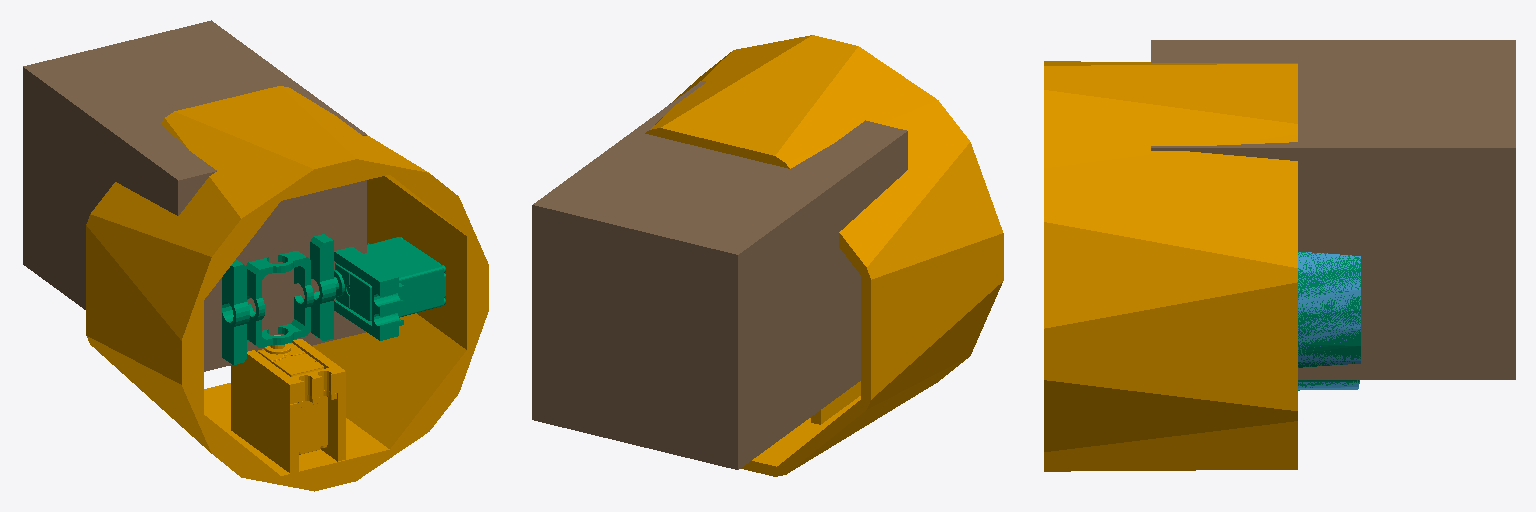
URDF robot description (atom_neck_v1):
<?xml version="1.0"?>
<!-- GENERATED by sim36/gen_neck.py - do not edit. -->
<robot name="atom_neck_v1">
  <mujoco>
    <compiler strippath="false" balanceinertia="true" discardvisual="false"/>
  </mujoco>
  <material name="shell"><color rgba="0.79 0.82 0.93 1"/></material>
  <material name="servo"><color rgba="0.84 0.0 0.0 1"/></material>
  <material name="head"><color rgba="0.55 0.45 0.35 1"/></material>

  <link name="neck_base">
    <inertial>
      <origin xyz="-0.002228170387 -0.016406399173 -0.089035291382" rpy="0 0 0"/>
      <mass value="0.482816538953"/>
      <inertia ixx="1.569031190147e-03" ixy="-1.284724955452e-05" ixz="-3.447563687629e-05"
               iyy="2.294219631954e-03" iyz="-6.505288405938e-05" izz="1.391820037109e-03"/>
    </inertial>
    <visual>
      <origin xyz="0.000000000000 0.000000000000 0.000000000000" rpy="0 0 0"/>
      <geometry><mesh filename="../NeckAssembly_files/meshes/neckcover_link.STL"/></geometry>
    </visual>
    <collision>
      <origin xyz="0.000000000000 0.000000000000 0.000000000000" rpy="0 0 0"/>
      <geometry><mesh filename="../NeckAssembly_files/meshes/neckcover_link.STL"/></geometry>
    </collision>
    <visual>
      <origin xyz="-0.009379017632 -0.029307607936 -0.143545072664" rpy="0 0 0"/>
      <geometry><mesh filename="../NeckAssembly_files/meshes/servo2_Link.STL"/></geometry>
    </visual>
    <collision>
      <origin xyz="-0.009379017632 -0.029307607936 -0.143545072664" rpy="0 0 0"/>
      <geometry><mesh filename="../NeckAssembly_files/meshes/servo2_Link.STL"/></geometry>
    </collision>
    <visual>
      <origin xyz="-0.023994949366 -0.029307607936 -0.107995072664" rpy="0 0 0"/>
      <geometry><mesh filename="../NeckAssembly_files/meshes/MotorHolder2_Link.STL"/></geometry>
    </visual>
    <collision>
      <origin xyz="-0.023994949366 -0.029307607936 -0.107995072664" rpy="0 0 0"/>
      <geometry><mesh filename="../NeckAssembly_files/meshes/MotorHolder2_Link.STL"/></geometry>
    </collision>
  </link>

  <joint name="neck_yaw" type="revolute">
    <origin xyz="-0.002878918073 0.065653037885 -0.077695072664" rpy="0 0 0"/>
    <parent link="neck_base"/><child link="neck_yaw_link"/>
    <axis xyz="-0.039769764094 0.999208869989 0.000000000000"/>
    <limit lower="-1.413717" upper="1.413717" effort="4.0" velocity="5.0"/>
  </joint>
  <link name="neck_yaw_link">
    <inertial>
      <origin xyz="-0.001831558688 -0.028091463301 -0.000149921053" rpy="0 0 0"/>
      <mass value="0.258767660246"/>
      <inertia ixx="1.944573643615e-04" ixy="-2.818618457195e-06" ixz="-6.766910092374e-07"
               iyy="3.043739301009e-04" iyz="5.116683657628e-08" izz="2.076111613790e-04"/>
    </inertial>
    <visual>
      <origin xyz="0.000000000000 0.000000000000 0.000000000000" rpy="0 0 0"/>
      <geometry><mesh filename="../NeckAssembly_files/meshes/BigHolder_Link.STL"/></geometry>
    </visual>
    <collision>
      <origin xyz="0.000000000000 0.000000000000 0.000000000000" rpy="0 0 0"/>
      <geometry><mesh filename="../NeckAssembly_files/meshes/BigHolder_Link.STL"/></geometry>
    </collision>
    <visual>
      <origin xyz="-0.009199452713 -0.007922127497 -0.000099870574" rpy="0 0 0"/>
      <geometry><mesh filename="../NeckAssembly_files/meshes/servo1_Link.STL"/></geometry>
    </visual>
    <collision>
      <origin xyz="-0.009199452713 -0.007922127497 -0.000099870574" rpy="0 0 0"/>
      <geometry><mesh filename="../NeckAssembly_files/meshes/servo1_Link.STL"/></geometry>
    </collision>
  </link>

  <joint name="neck_pitch" type="revolute">
    <origin xyz="-0.006286809219 -0.080919878144 0.020000000000" rpy="0 0 0"/>
    <parent link="neck_yaw_link"/><child link="neck_pitch_link"/>
    <axis xyz="0.000000000000 0.000000000000 1.000000000000"/>
    <limit lower="-1.413717" upper="1.413717" effort="4.0" velocity="5.0"/>
  </joint>
  <link name="neck_pitch_link">
    <inertial>
      <origin xyz="0.020314926941 0.027136296539 -0.019990893989" rpy="0 0 0"/>
      <mass value="0.309242325129"/>
      <inertia ixx="2.122668258148e-04" ixy="-3.052861037888e-06" ixz="7.873340094714e-08"
               iyy="3.261874520543e-04" iyz="7.135274590719e-08" izz="2.282284000597e-04"/>
    </inertial>
    <visual>
      <origin xyz="0.000000000000 0.000000000000 0.000000000000" rpy="0 0 0"/>
      <geometry><mesh filename="../NeckAssembly_files/meshes/YesHolder2_Link.STL"/></geometry>
    </visual>
    <collision>
      <origin xyz="0.000000000000 0.000000000000 0.000000000000" rpy="0 0 0"/>
      <geometry><mesh filename="../NeckAssembly_files/meshes/YesHolder2_Link.STL"/></geometry>
    </collision>
  </link>

  <joint name="head_fixed" type="fixed">
    <origin xyz="0.000000000000 0.071850000000 0.000000000000" rpy="0 0 0"/>
    <parent link="neck_pitch_link"/><child link="head"/>
  </joint>
  <link name="head">
    <inertial>
      <origin xyz="0 0 0" rpy="0 0 0"/>
      <mass value="0.25"/>
      <inertia ixx="8.604037500e-04" ixy="0" ixz="0"
               iyy="8.604037500e-04" iyz="0" izz="8.604037500e-04"/>
    </inertial>
    <visual><geometry><box size="0.1006 0.1437 0.1006"/></geometry><material name="head"/></visual>
  </link>
</robot>

--- Render facts (derived) ---
3 views of the same robot in one strip: view 1: azimuth 30°, elevation 25°; view 2: azimuth 150°, elevation 25°; view 3: azimuth 270°, elevation 25° (orthographic).
Robot: atom_neck_v1 — 4 links, 3 joints (2 revolute, 1 fixed); root link neck_base; default pose: every joint at zero.
Links seen in each view (by area): view 1: neck_base, head, neck_pitch_link; view 2: head, neck_base; view 3: neck_base, head, neck_pitch_link, neck_yaw_link.
Link boxes in pixels (x1,y1,x2,y2): neck_base: [86, 86, 488, 491]; head: [23, 20, 366, 371]; neck_pitch_link: [222, 234, 445, 364]; head: [532, 81, 907, 469]; neck_base: [645, 35, 1003, 476]; neck_base: [1044, 61, 1297, 471]; head: [1151, 40, 1515, 379]; neck_pitch_link: [1298, 252, 1360, 390]; neck_yaw_link: [1298, 252, 1360, 389].
Size in the robot's own frame: 0.164 by 0.1856 by 0.164 metres.
Meshes: 6 distinct files referenced, 6 mesh visuals loaded (6 binary STL).
